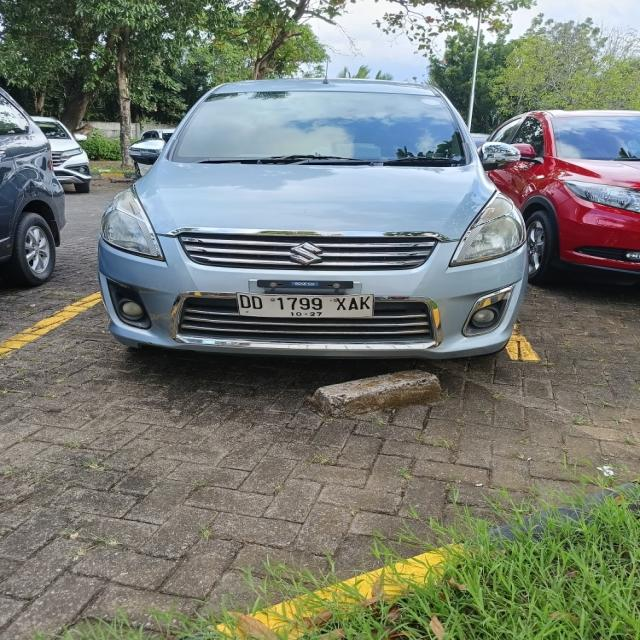plates: (237, 286, 386, 324)
